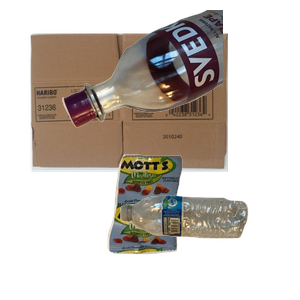cardboard: (28, 31, 249, 195)
glass: (60, 10, 300, 130)
plastic: (118, 193, 300, 300)
trash: (105, 152, 280, 300)
